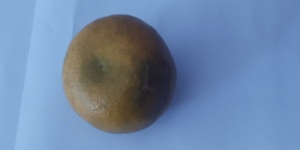BAD: (63, 15, 176, 134)
